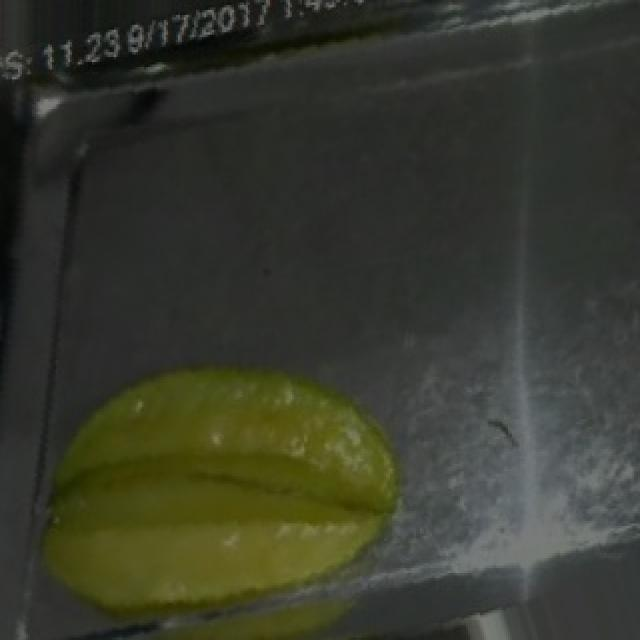fruit: (20, 315, 432, 640)
